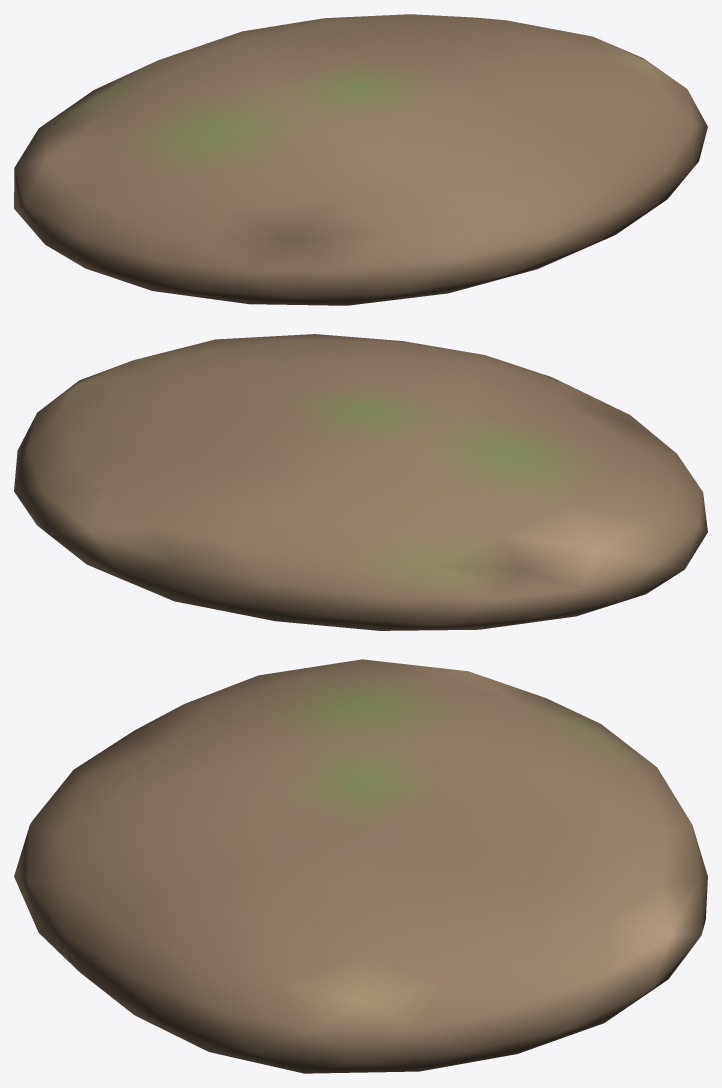
The model's file is RiverStone_C.fbx.
3 renders of one model, top to bottom at view 1: azimuth 30°, elevation 25°; view 2: azimuth 150°, elevation 25°; view 3: azimuth 270°, elevation 25°, orthographic. The views are drawn at different scales.
Visible parts, largest first — view 1: RiverStone_C; view 2: RiverStone_C; view 3: RiverStone_C.
Boxes of the visible parts, x1=… form: RiverStone_C: x1=14, y1=14, x2=707, y2=305; RiverStone_C: x1=14, y1=334, x2=707, y2=630; RiverStone_C: x1=14, y1=659, x2=707, y2=1073.
Bounding box in the file's own units: 3.78 × 0.5945 × 3.
